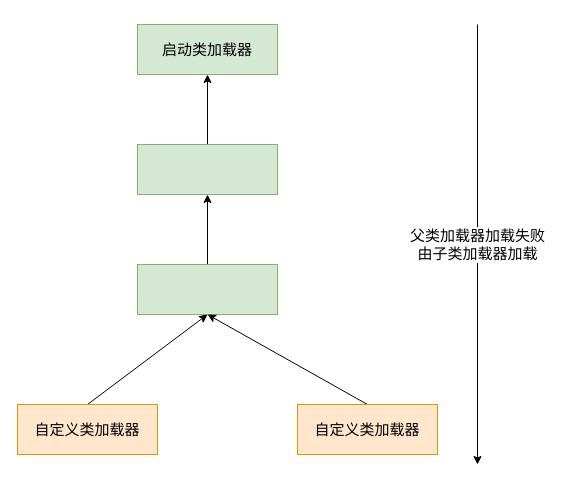
Image size: 562x490. Some labels were removed from this diagram. Each missing label, with the centre of its shape:
"应用类加载器" belongs at point 207,289.
"扩展类加载器" belongs at point 207,169.
